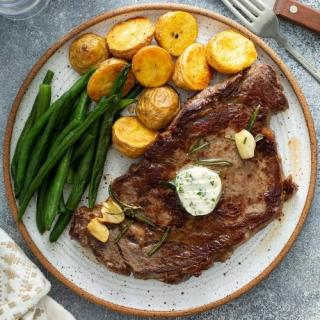carbs: (69, 14, 255, 78), (134, 75, 180, 129), (112, 119, 156, 155), (91, 78, 112, 98)
meat: (157, 127, 297, 250), (179, 76, 287, 130), (114, 154, 158, 280), (159, 251, 231, 282), (94, 246, 113, 270)
steak: (1, 9, 320, 312)
veg: (32, 69, 89, 245), (90, 98, 112, 198), (13, 108, 32, 216), (115, 79, 134, 118), (87, 218, 110, 244), (237, 131, 256, 160), (102, 199, 124, 223)
